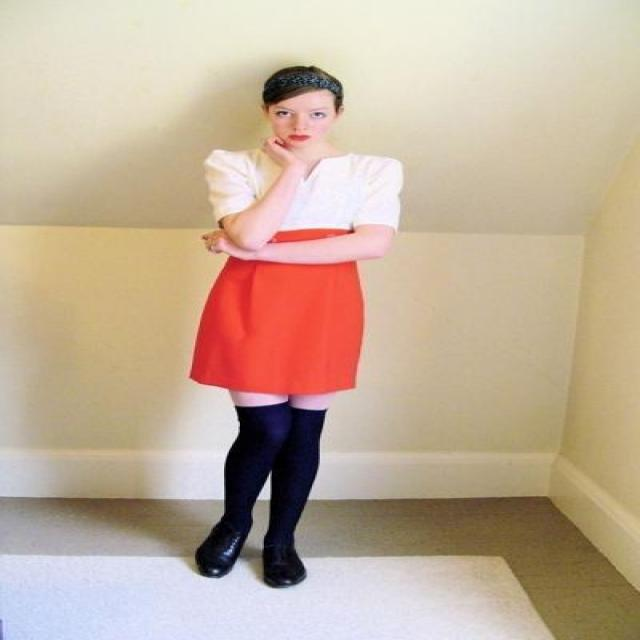shirt: (205, 134, 402, 228)
shoe: (195, 524, 306, 586)
skirt: (190, 230, 364, 392)
